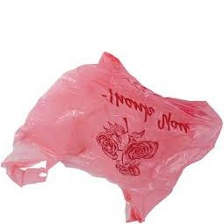plastic_bag: (0, 48, 224, 224)
